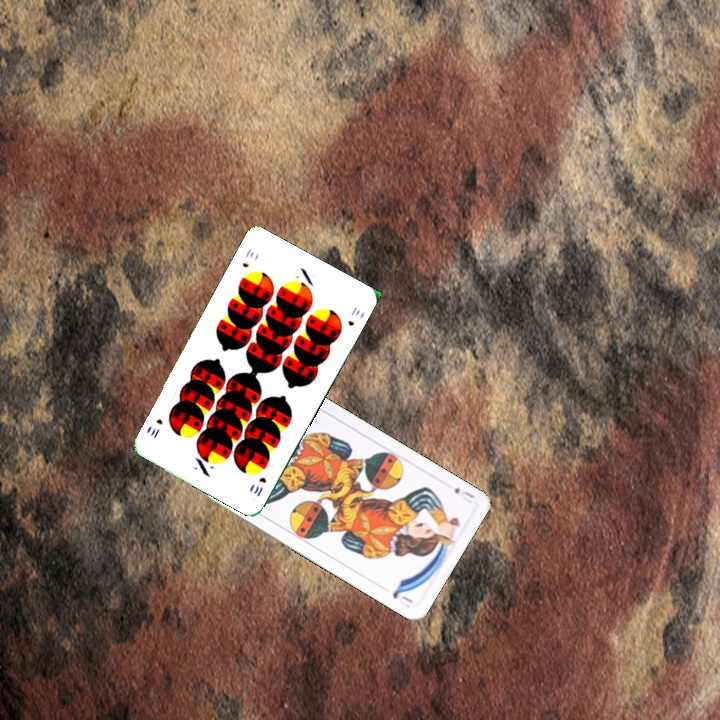S10: (249, 473, 269, 499), (238, 245, 257, 270)
SU: (450, 483, 478, 506)
